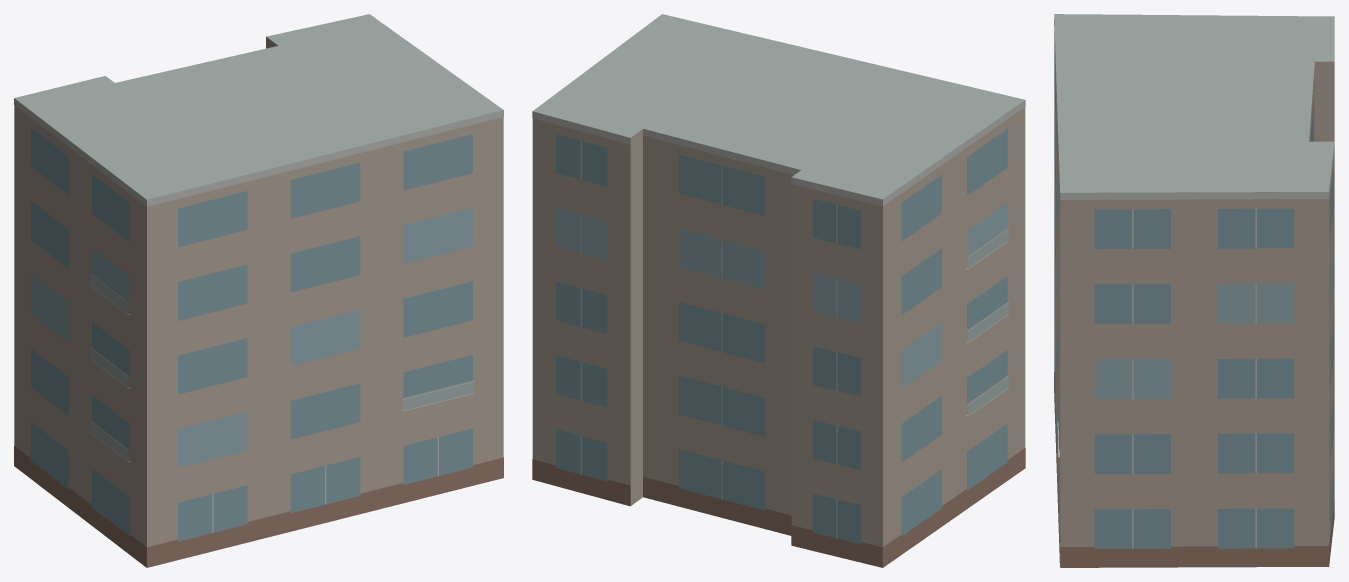
The model's file is survey-upis-32985087.glb.
The picture shows the model from 3 angles, left to right: view 1: azimuth 30°, elevation 25°; view 2: azimuth 150°, elevation 25°; view 3: azimuth 270°, elevation 25°; orthographic projection.
Visible parts, largest first — view 1: survey-upis-32985087.tmp; view 2: survey-upis-32985087.tmp; view 3: survey-upis-32985087.tmp.
Boxes of the visible parts, x1,y1,x2,y2 form: survey-upis-32985087.tmp: (14,14,503,567); survey-upis-32985087.tmp: (532,14,1025,567); survey-upis-32985087.tmp: (1054,14,1334,567).
Size of the model in its own units: 13.33 by 13 by 8.83.
